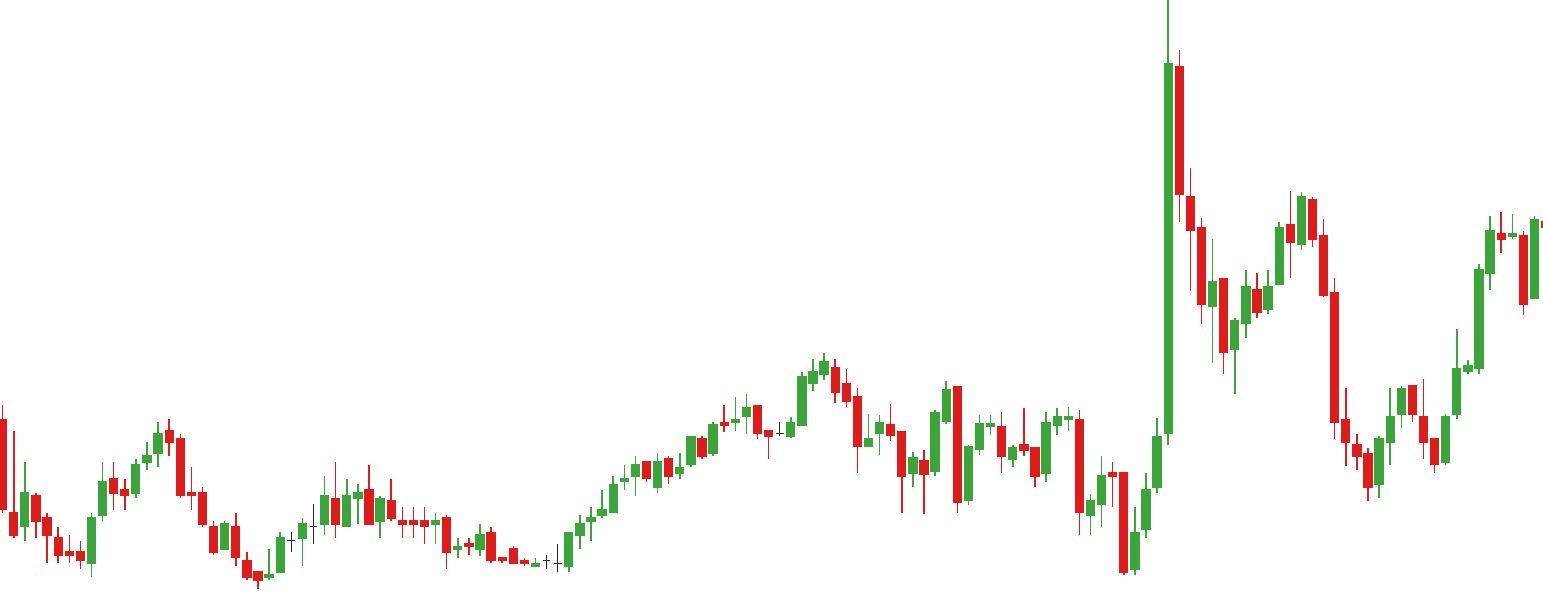buy: (952, 426, 1097, 540)
sell: (740, 350, 841, 428)
